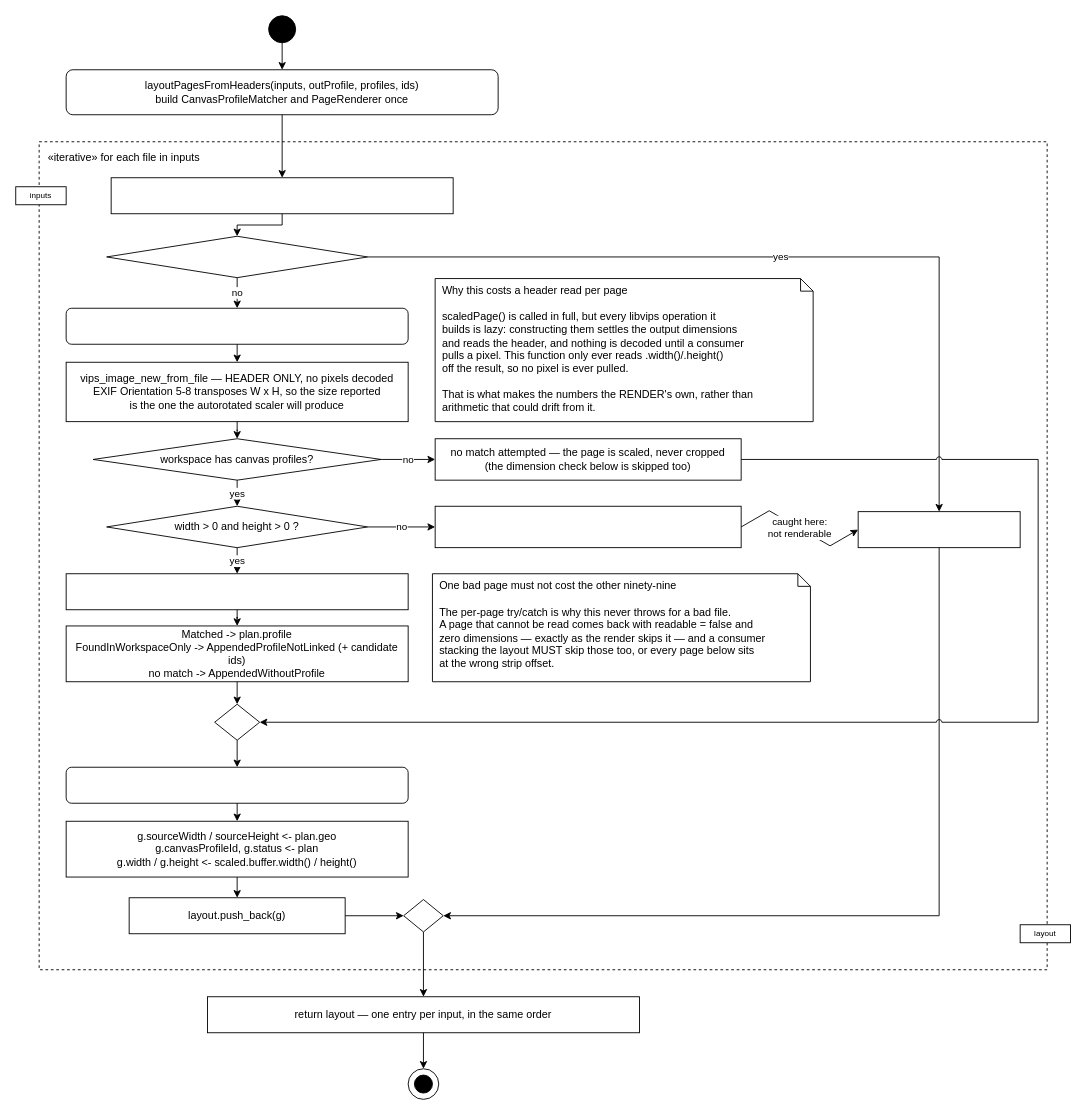
This 1086x1115 diagram has some shape labels left out. Here are the shapes that lost their labels. From the top down, the centre of each, then its label:
(x=281, y=195): PagePreviewGeometry g; g.sourceFilePath, g.inputUid
(x=237, y=256): FileStatus::Missing ?
(x=236, y=325): PageRenderer::planFromHeader(path)
(x=587, y=526): throw runtime_error "cannot determine image dimensions"
(x=938, y=529): g.readable = false
(x=236, y=591): CanvasProfileMatcher::resolveForSize(width, height)
(x=236, y=784): PageRenderer::scaledPage(plan, path, grade = nullptr)
